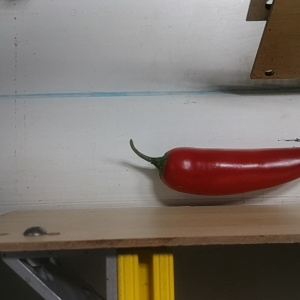Cut Point: (151, 145, 182, 188)
